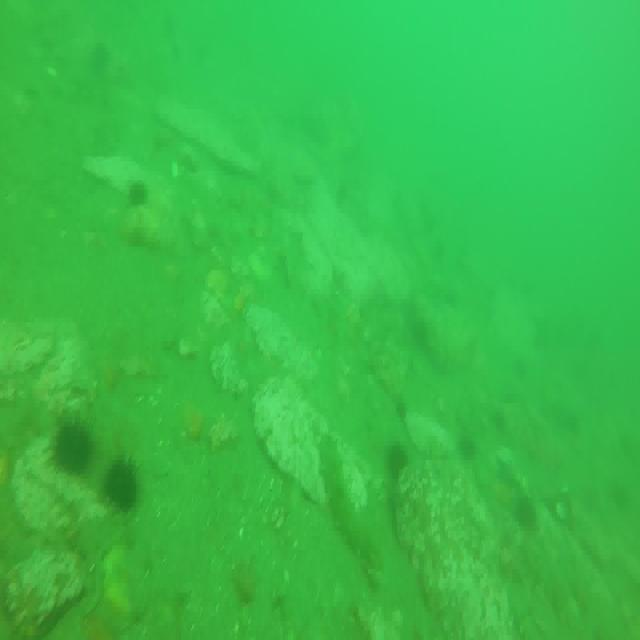echinus: (102, 454, 139, 511), (55, 423, 92, 475), (388, 443, 409, 478), (516, 496, 537, 526), (128, 181, 148, 206)
holothurian: (317, 431, 377, 559)
